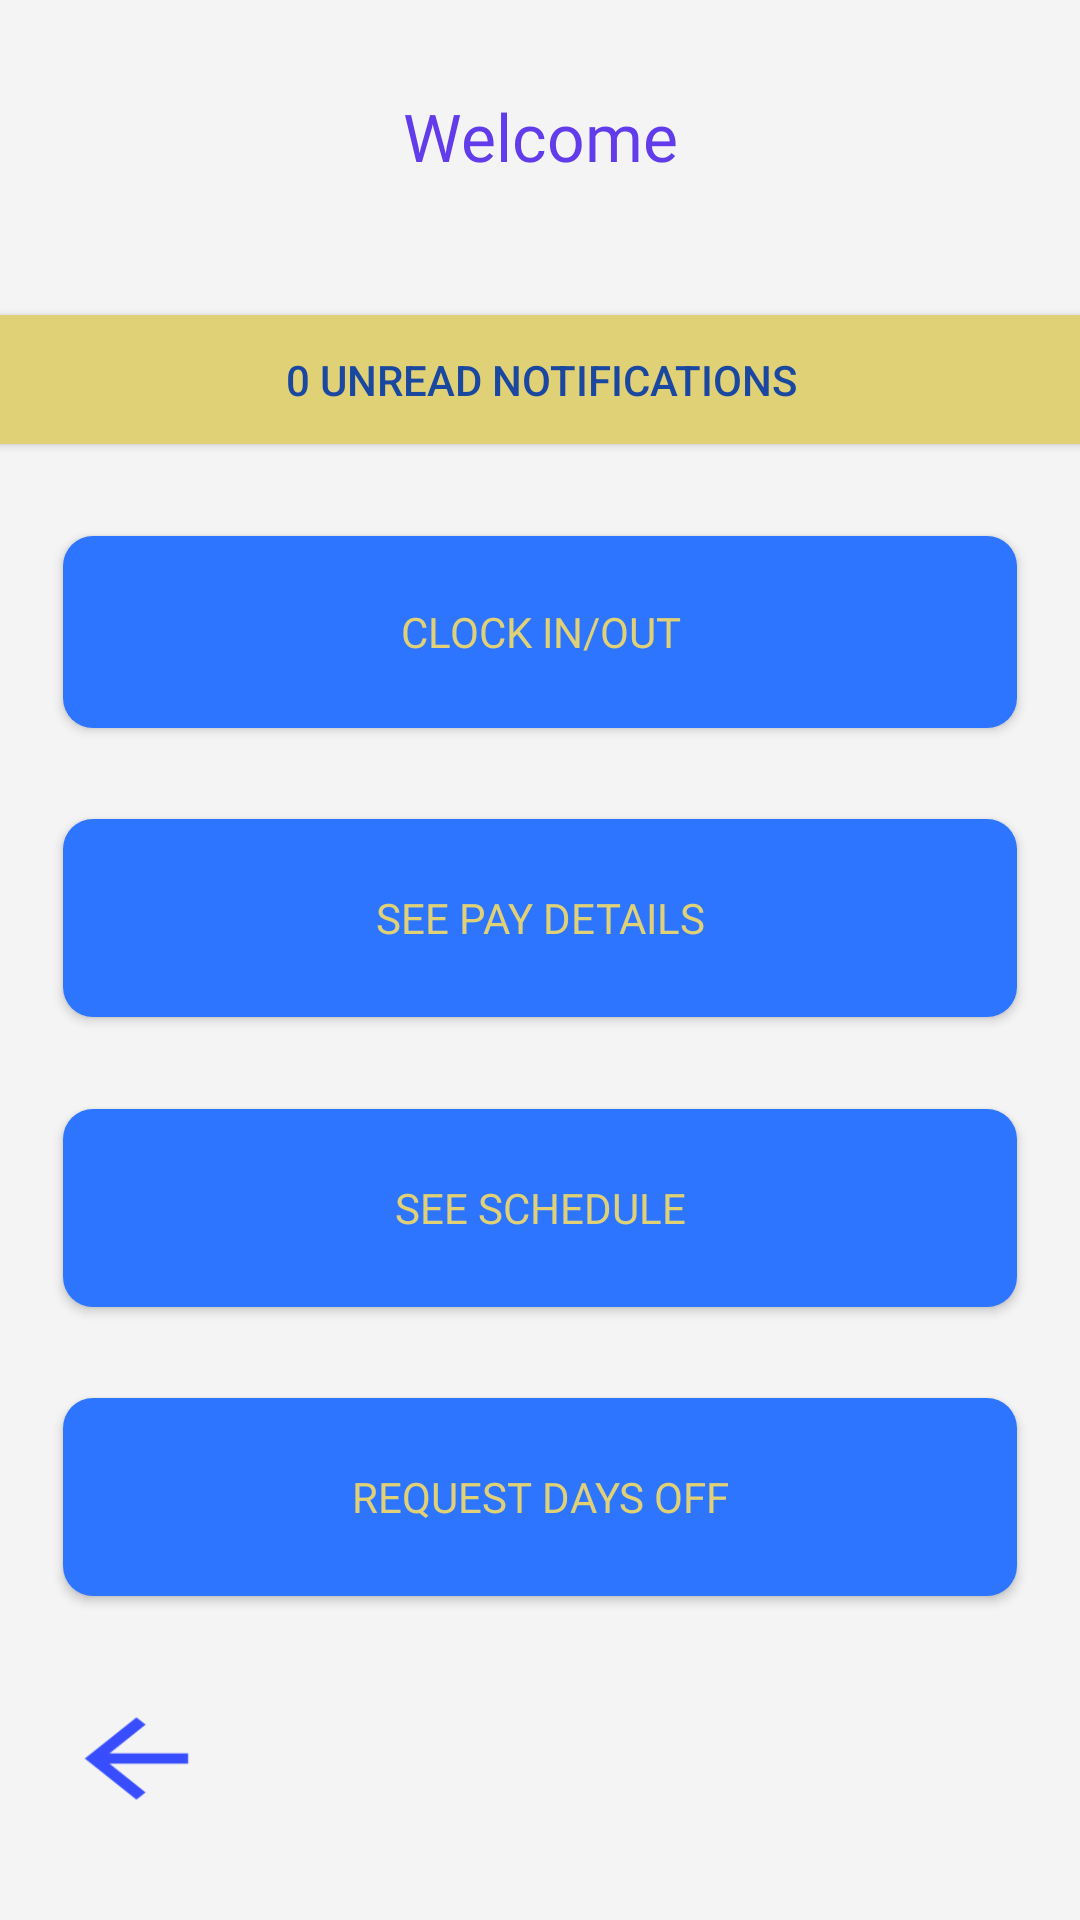

Screen size 1080 x 1920. Icon name, then its box in pixels as bbox=(x1, y1, x2, y2):
back: bbox=(85, 1717, 189, 1800)
